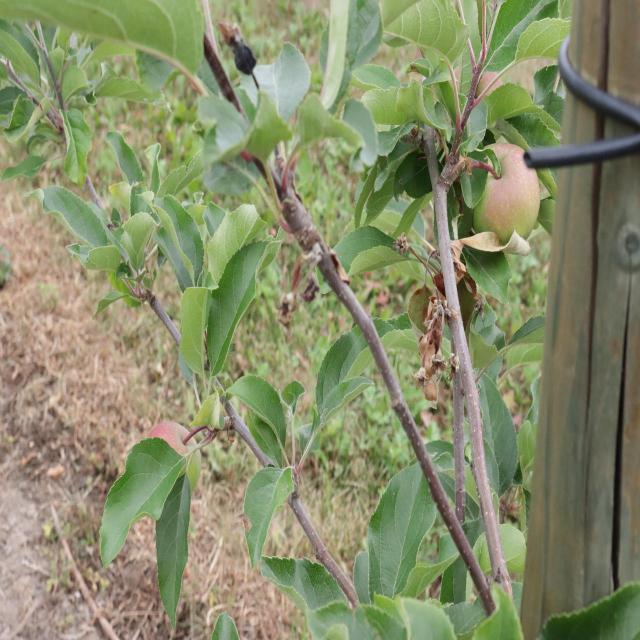-FireBlight-: (411, 234, 511, 396)
